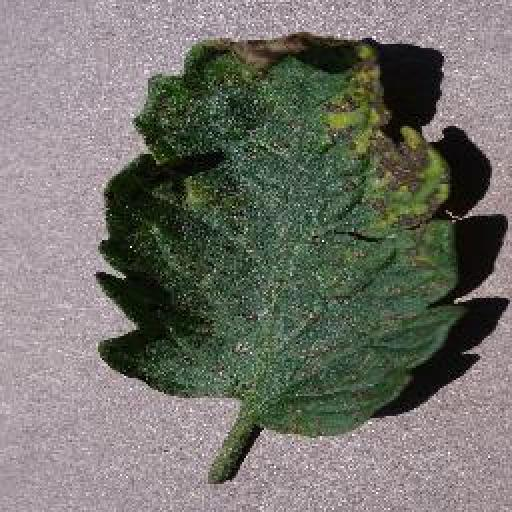Septoria: (91, 29, 463, 435)
